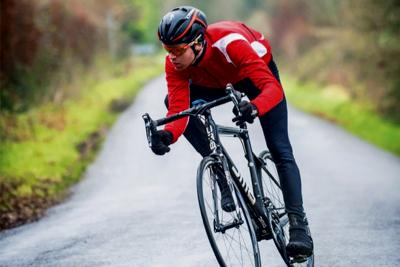With Helmet: (156, 2, 209, 76)
